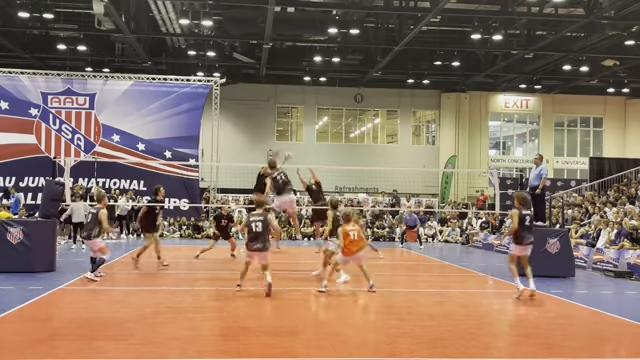attacco: (261, 155, 305, 249)
muro: (297, 166, 332, 243), (249, 156, 278, 208)
